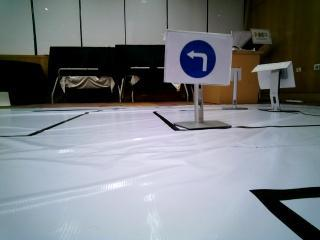left: (166, 33, 231, 84)
